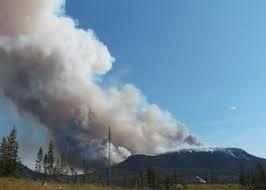yanwu: (1, 0, 114, 120), (56, 83, 218, 165)
